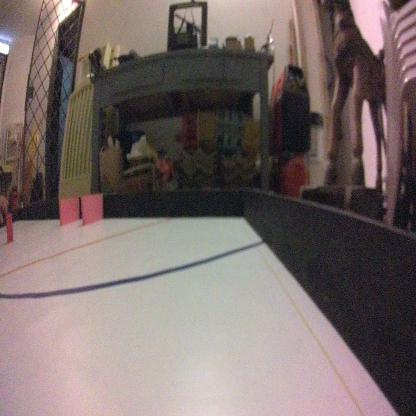magenta: (80, 194, 103, 225), (59, 196, 79, 223)
red: (3, 209, 15, 249)
